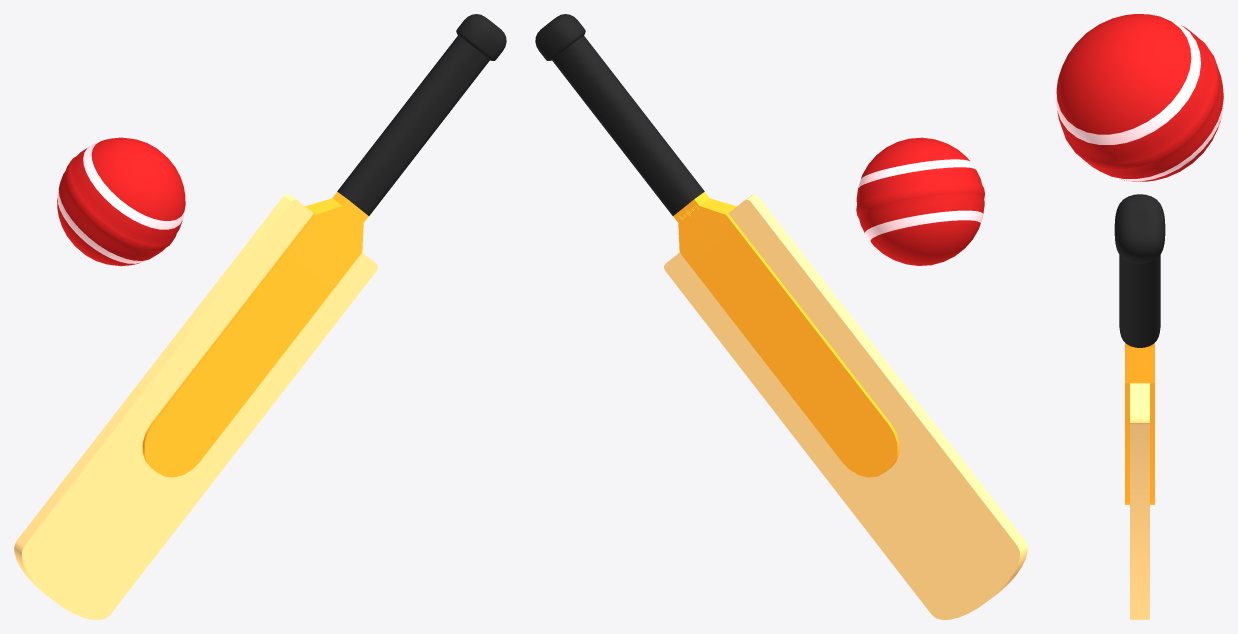
The model's file is cricket_game.glb.
The picture shows the model from 3 angles, left to right: view 1: azimuth 30°, elevation 25°; view 2: azimuth 150°, elevation 25°; view 3: azimuth 270°, elevation 25°; orthographic projection. The views are drawn at different scales.
Parts seen in each view (by area): view 1: Cube.818; view 2: Cube.818; view 3: Cube.818.
Part boxes in pixels (x1=…): Cube.818: x1=14, y1=14, x2=506, y2=619; Cube.818: x1=535, y1=14, x2=1027, y2=619; Cube.818: x1=1056, y1=14, x2=1223, y2=619.
Size of the model in its own units: 2.24 by 2.24 by 0.5135.
1 material, 1 textured.
